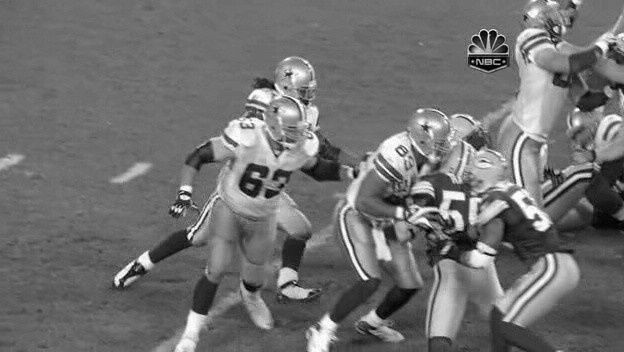person: (282, 57, 316, 101), (281, 57, 315, 101), (283, 57, 317, 101), (282, 56, 316, 100), (282, 58, 316, 102)
target_negative: (414, 157, 564, 323), (327, 271, 590, 352), (165, 330, 337, 347), (406, 239, 467, 263), (183, 344, 415, 349), (37, 207, 42, 344)
